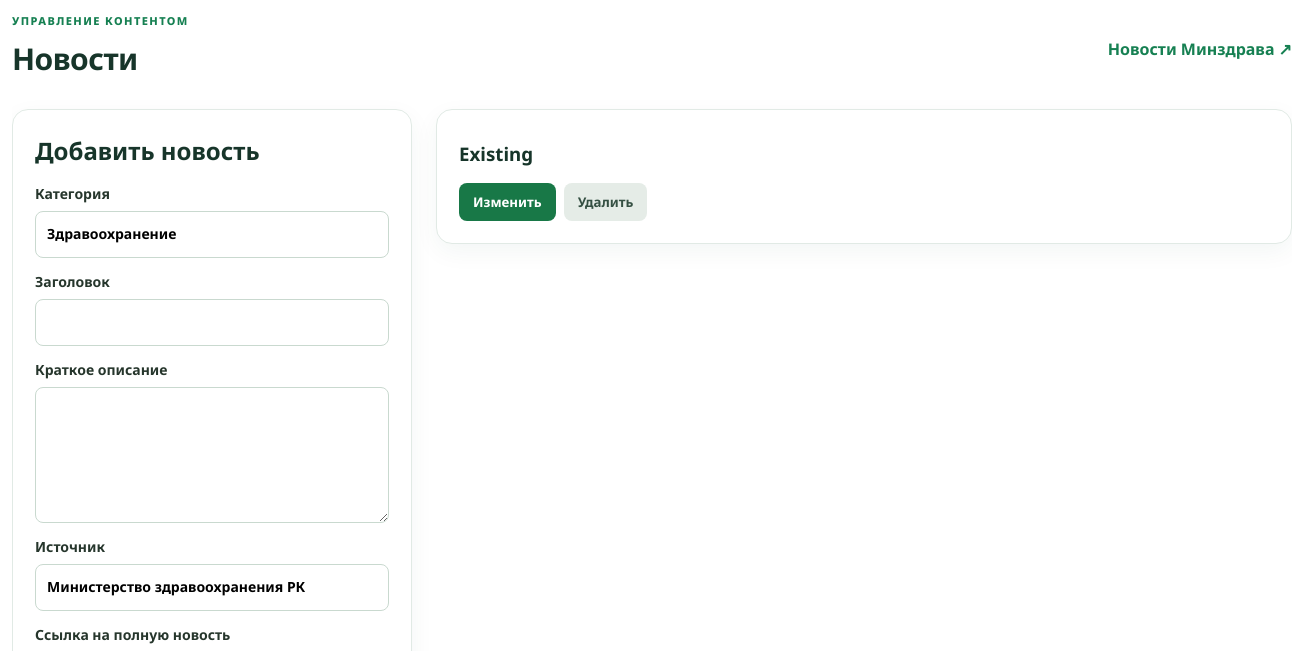
Test: failed deletion is visible to the administrator
The image size is (1304, 651).
Click the button "Удалить" at (606, 202), box [564,182,647,220]
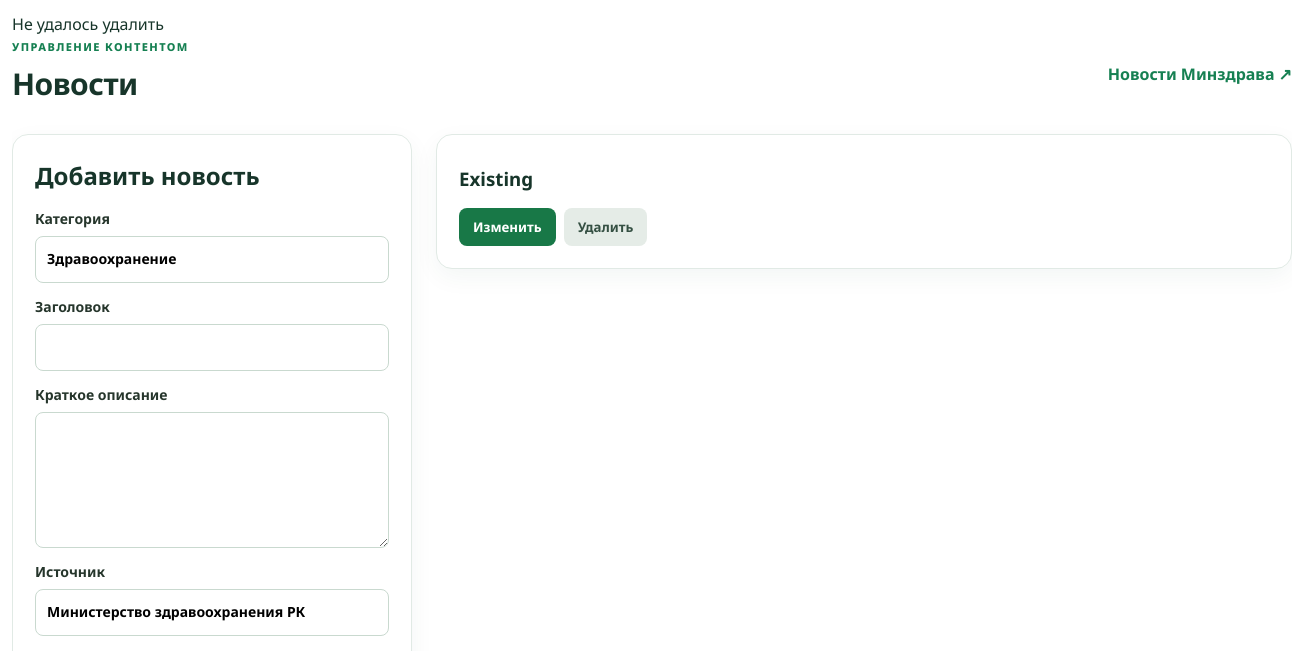
Expected: the heading "Existing" is shown, [459,166,533,191]
Now the message reads "Не удалось удалить", box [12,13,164,35]
